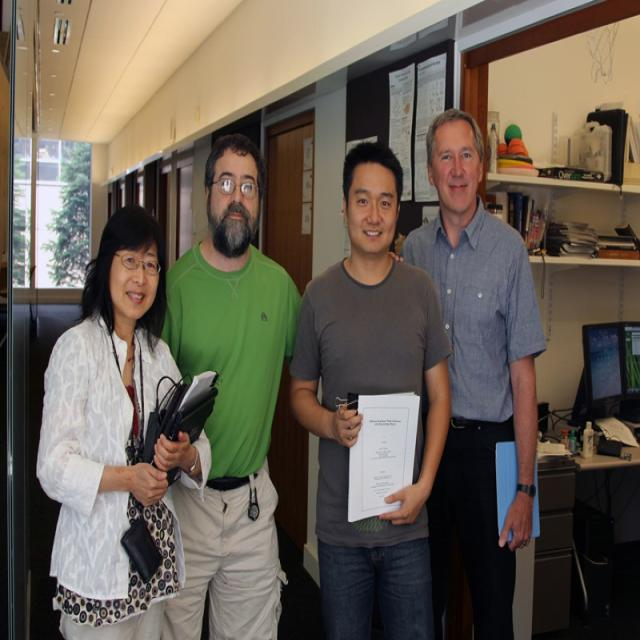body: (159, 131, 405, 640), (388, 101, 548, 639), (286, 136, 456, 639), (33, 201, 215, 639)
